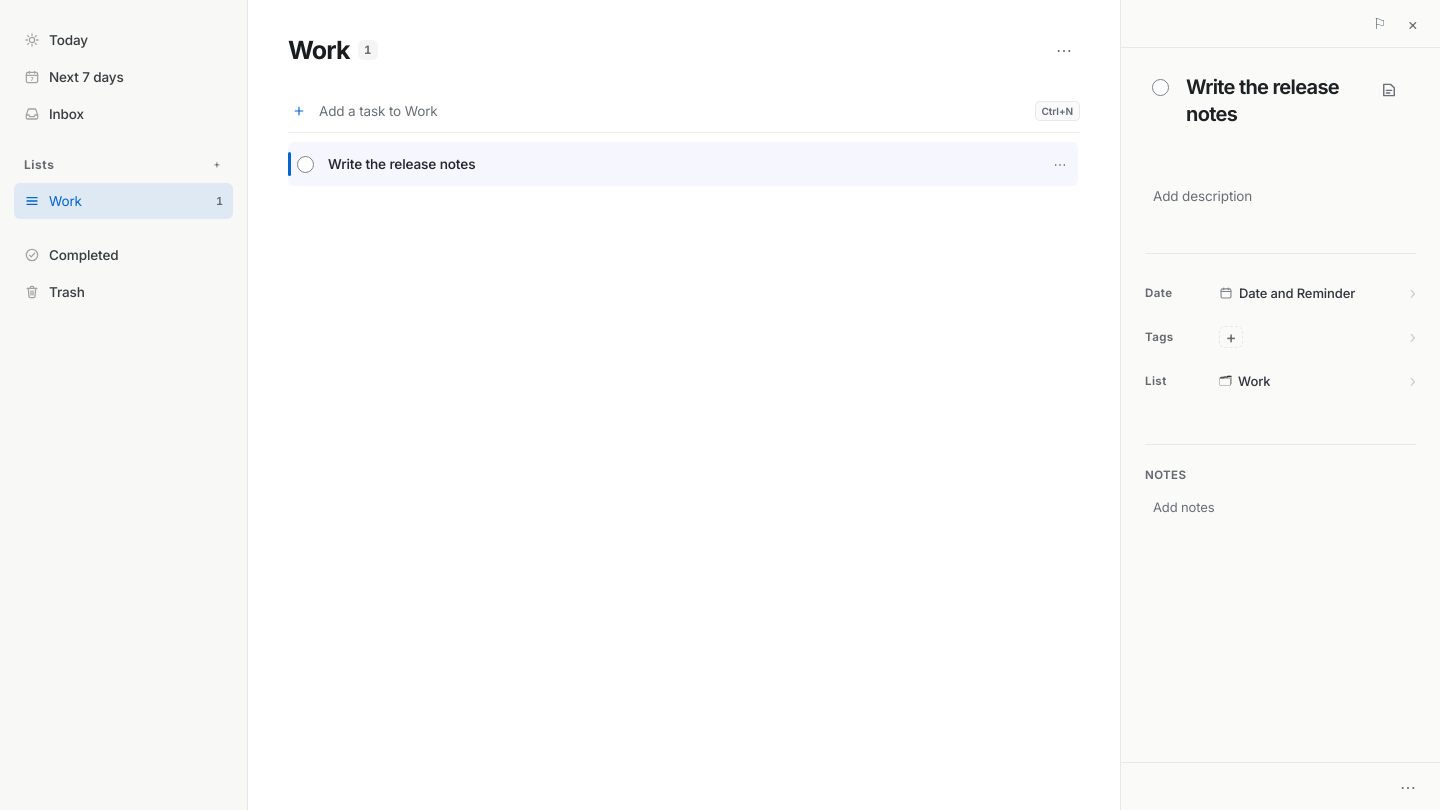
the Detail's More menu (§15.2, §15.3) › opens the history in the Detail, and closes it again (§25.7)
Click the button named "More": (1408, 786) [1392,770,1424,802]
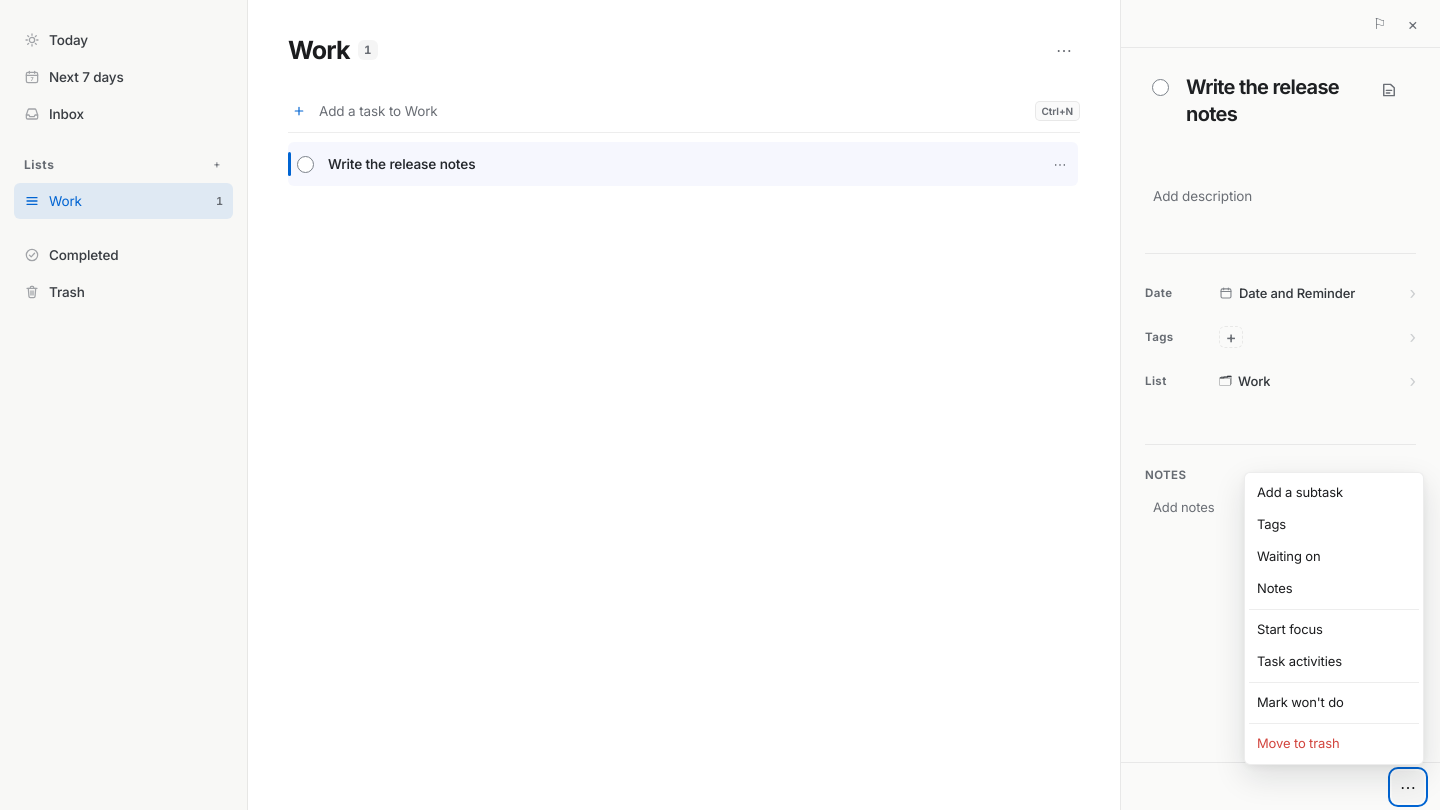
Click the menu item "Task activities": (1334, 662) [1249,646,1419,678]
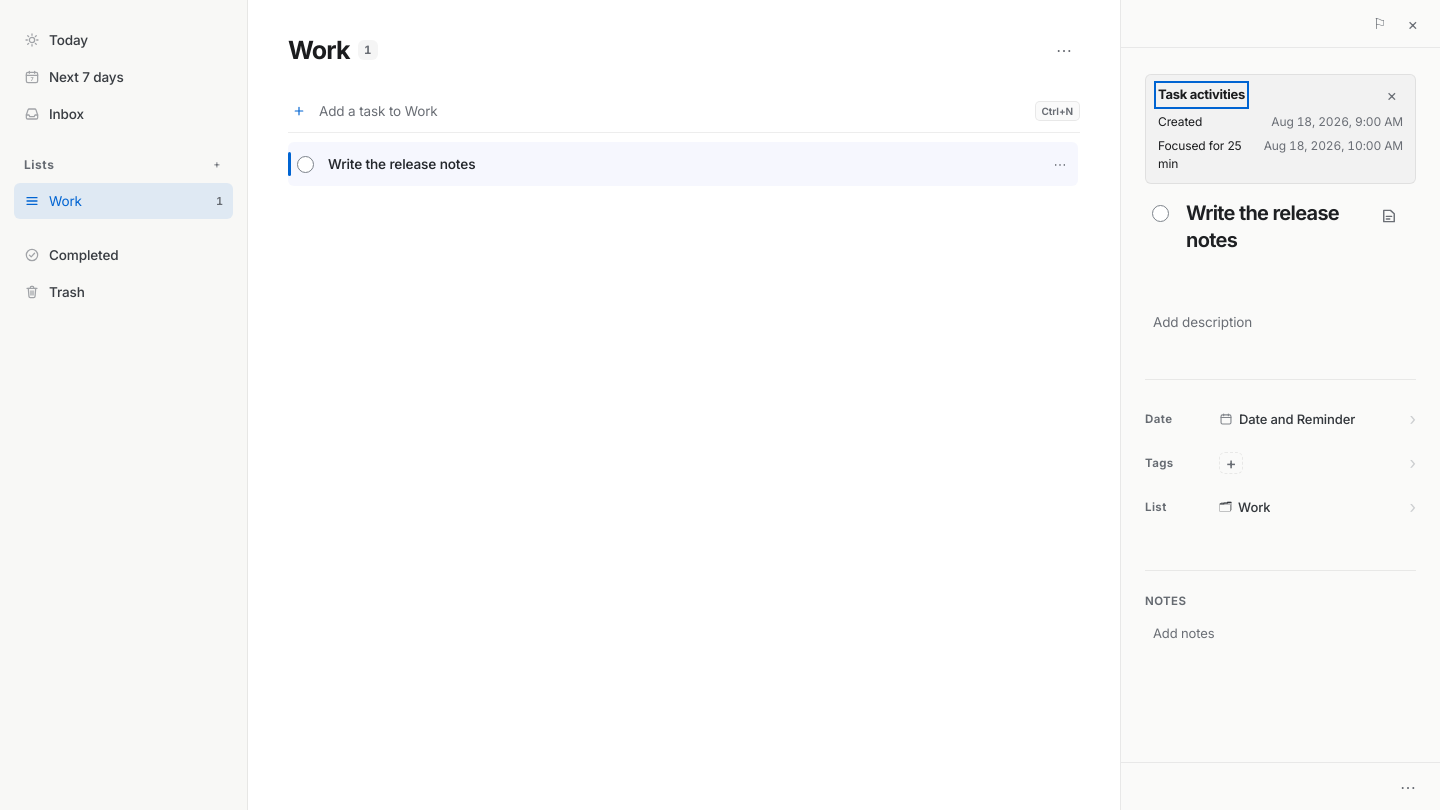
Expected: the heading "Task activities" is shown, [1158,85,1245,104]
Expected: the element "Task activities" shows "Focused for 25 min", [1158,138,1242,170]
Expected: the element "Task activities" shows "Created", [1158,114,1202,128]
Click the button named "Close": (1392, 95) [1381,86,1403,104]
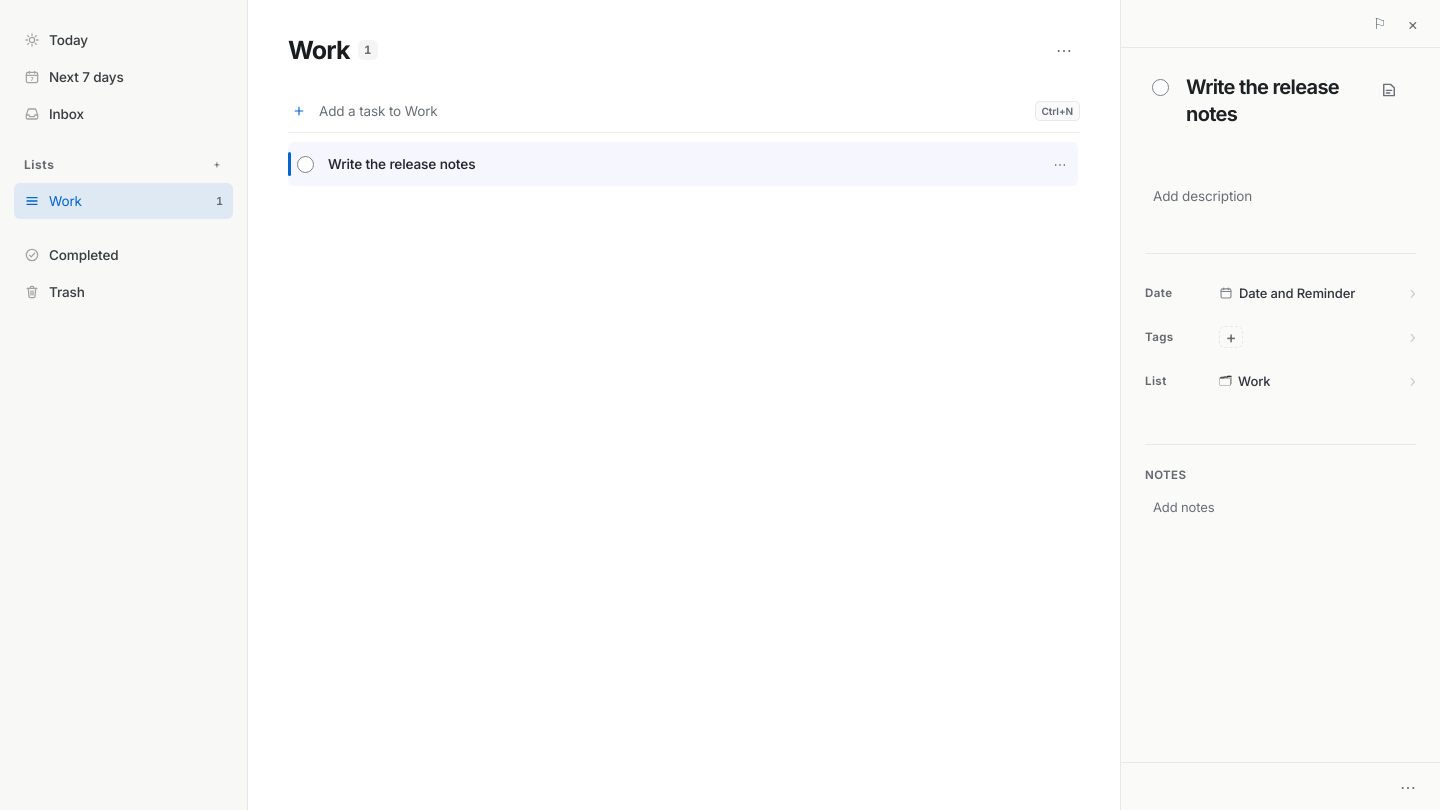
Expected: the heading "Task activities" is gone
